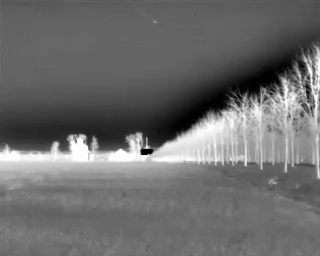BIRD: (152, 18, 159, 26)
